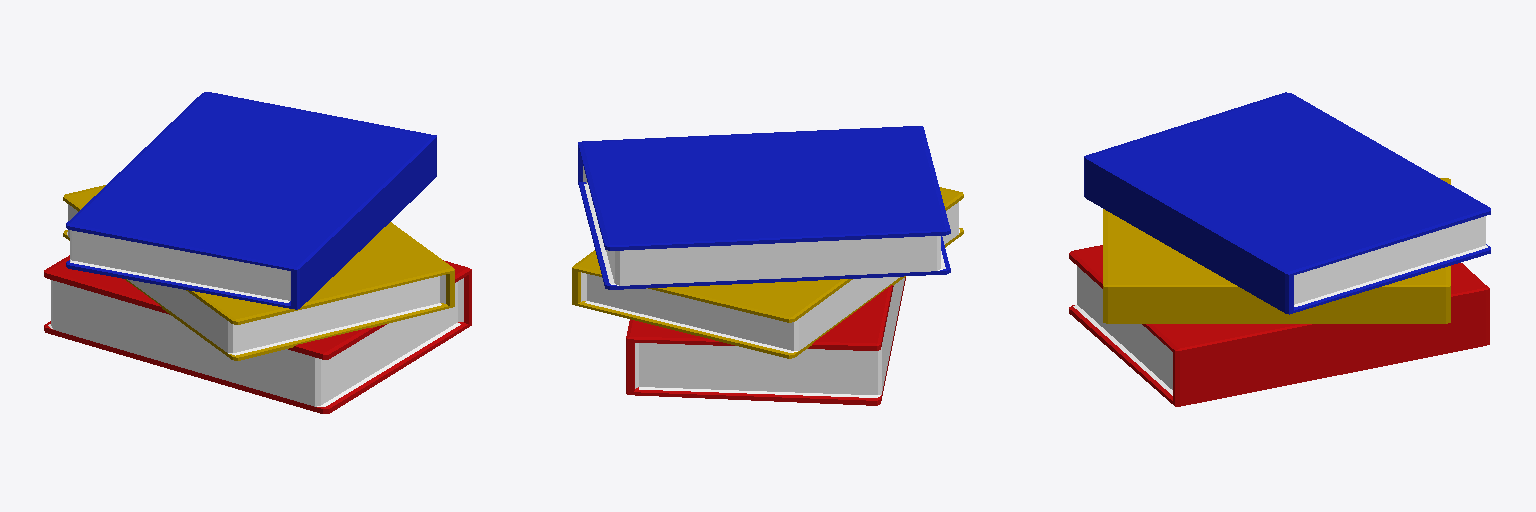
File: Book_stack_1.obj
3 views of the same model, side by side, from view 1: azimuth 30°, elevation 25°; view 2: azimuth 150°, elevation 25°; view 3: azimuth 270°, elevation 25° (orthographic).
Visible parts, largest first — view 1: Book_stack_1_Cube.009; view 2: Book_stack_1_Cube.009; view 3: Book_stack_1_Cube.009.
Boxes of the visible parts, <box> form: Book_stack_1_Cube.009: <box>44,92,471,413</box>; Book_stack_1_Cube.009: <box>572,126,963,405</box>; Book_stack_1_Cube.009: <box>1069,92,1490,406</box>.
Bounding box in the file's own units: 0.9838 × 0.3735 × 0.9701.